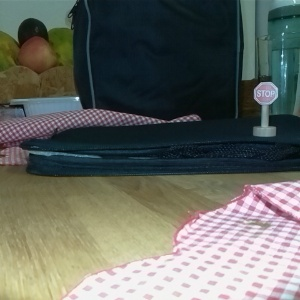stop sign: (251, 80, 280, 139)
